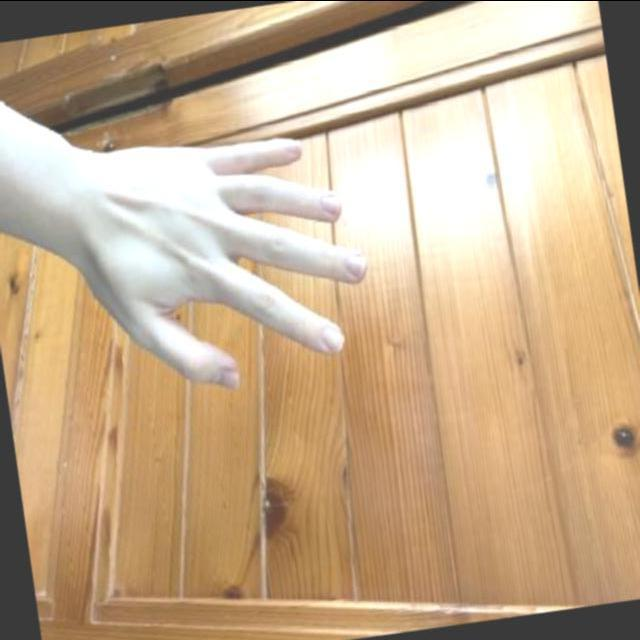hand: (45, 80, 398, 422)
